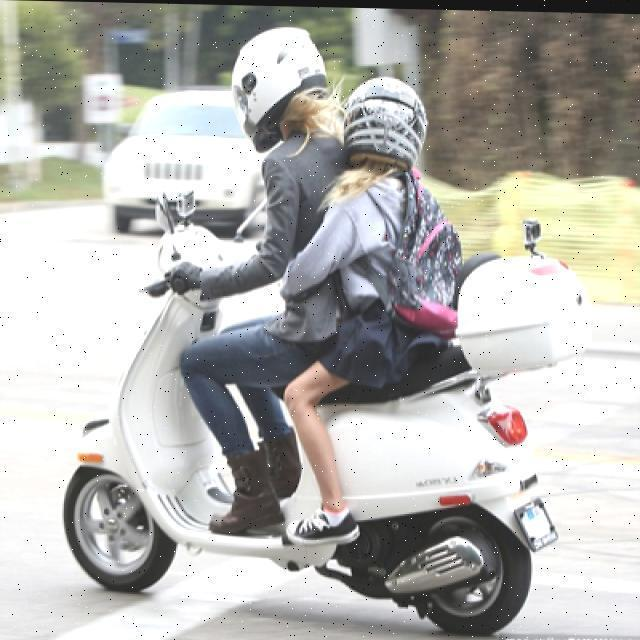Helmet: (228, 15, 324, 152), (344, 74, 429, 160)
